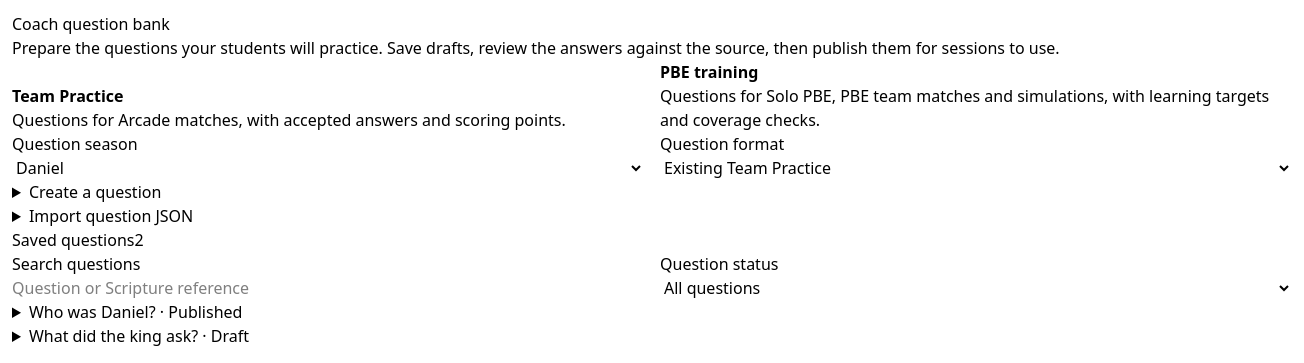
Test case: Coach question discovery › filters saved questions by reference and publication status
Type "Daniel 2" into the search field labelled "Search questions" at point(328, 288), box [12, 276, 644, 300]
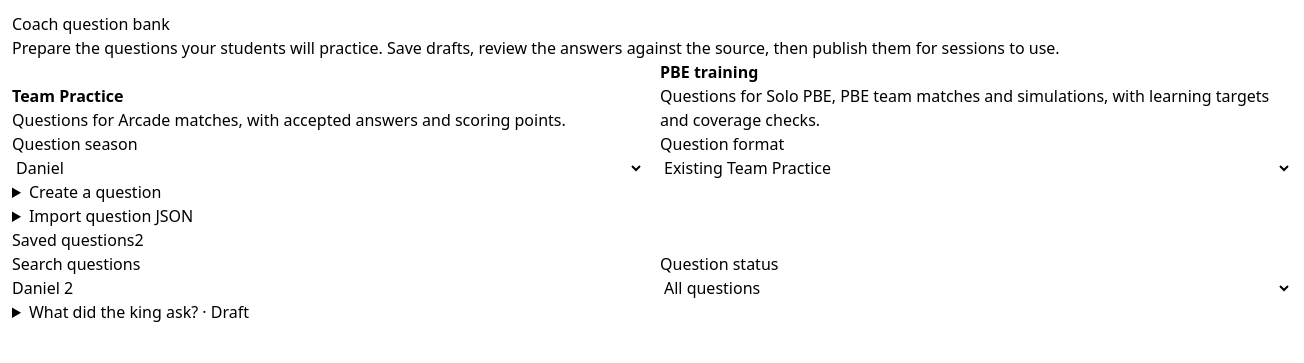
Expected: the heading "What did the king ask? · Draft" is shown, [29, 301, 249, 323]
Expected: the heading "Who was Daniel? · Published" is gone
Select "Published" in the dropdown labelled "Question status" at point(976, 288), box [660, 276, 1292, 300]
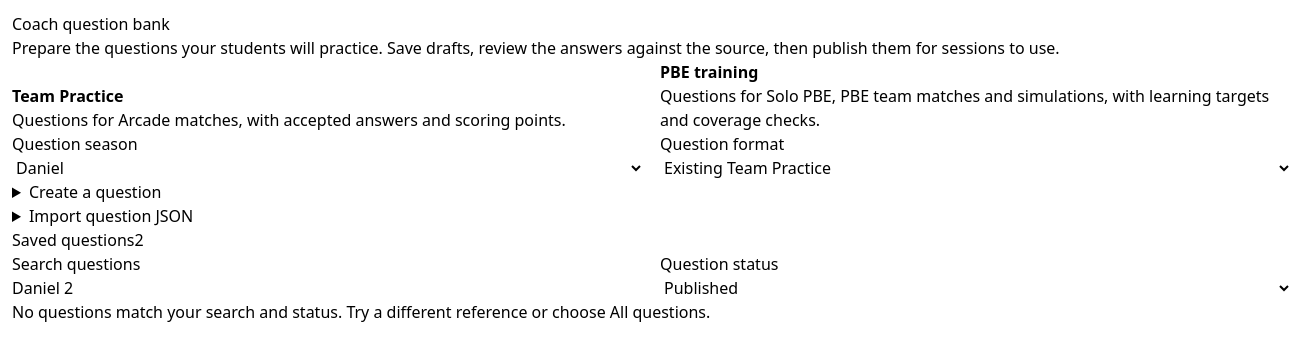
Expected: the text "No questions match your search and status" is shown, [12, 301, 710, 323]
Clear the search field labelled "Search questions" at point(328, 288), box [12, 276, 644, 300]
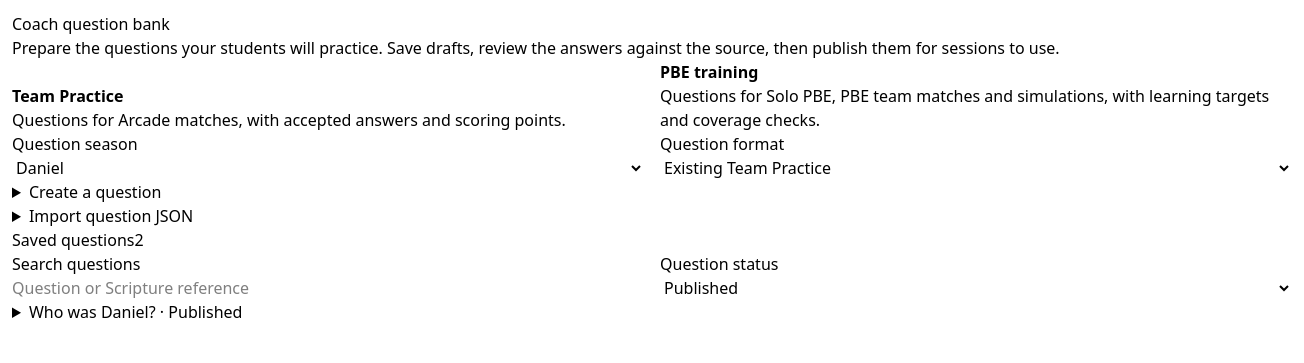
Expected: the heading "Who was Daniel? · Published" is shown, [29, 301, 242, 323]
